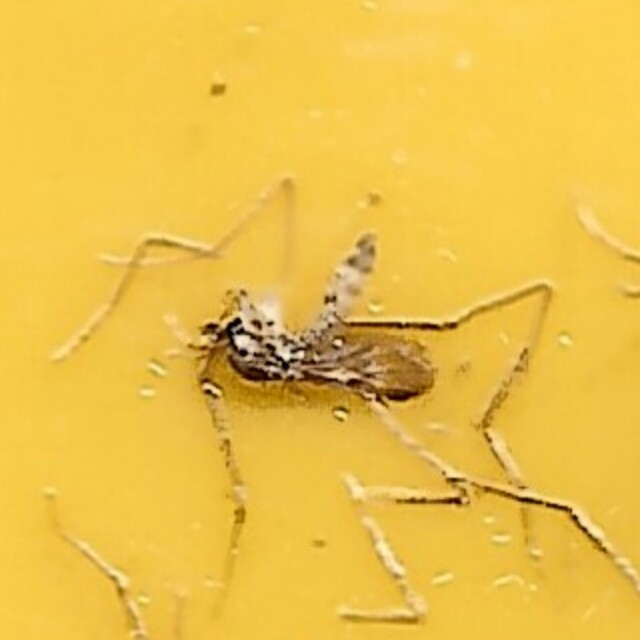Nematocera: (200, 216, 440, 424)
